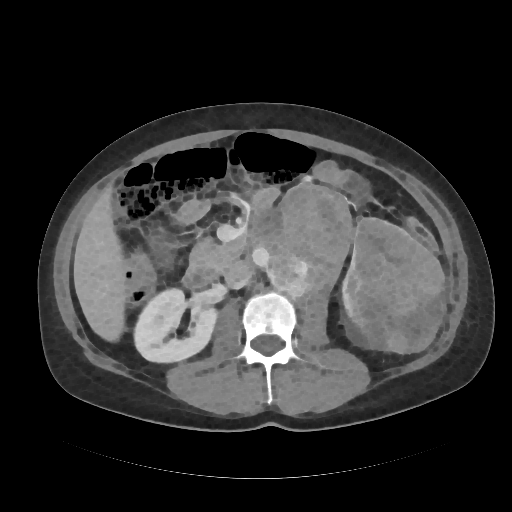Lesion: (346, 218, 449, 323)
